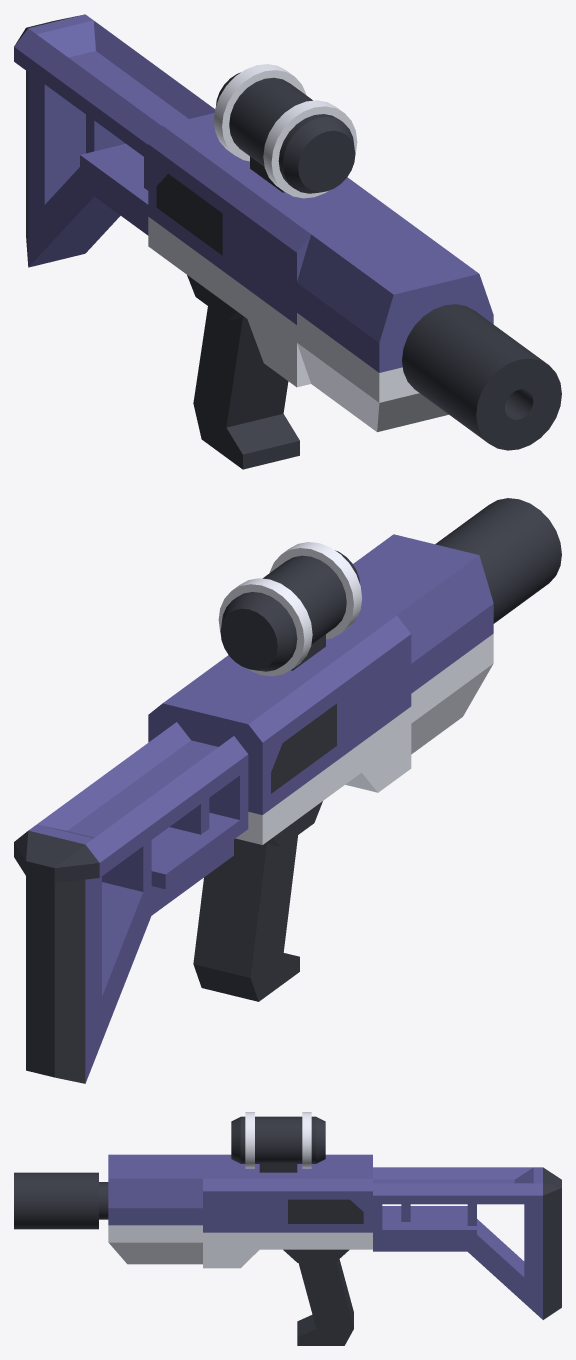
File: pistola 1.obj
3 renders of one model, top to bottom at view 1: azimuth 30°, elevation 25°; view 2: azimuth 150°, elevation 25°; view 3: azimuth 270°, elevation 25°, orthographic. The views are drawn at different scales.
Parts seen in each view (by area): view 1: mergedBlocks; view 2: mergedBlocks; view 3: mergedBlocks.
Boxes of the visible parts, x1,y1,x2,y2 form: mergedBlocks: (14,14,561,469); mergedBlocks: (14,498,561,1083); mergedBlocks: (14,1112,561,1345).
Size of the model in its own units: 0.4 by 1.3 by 2.9.
